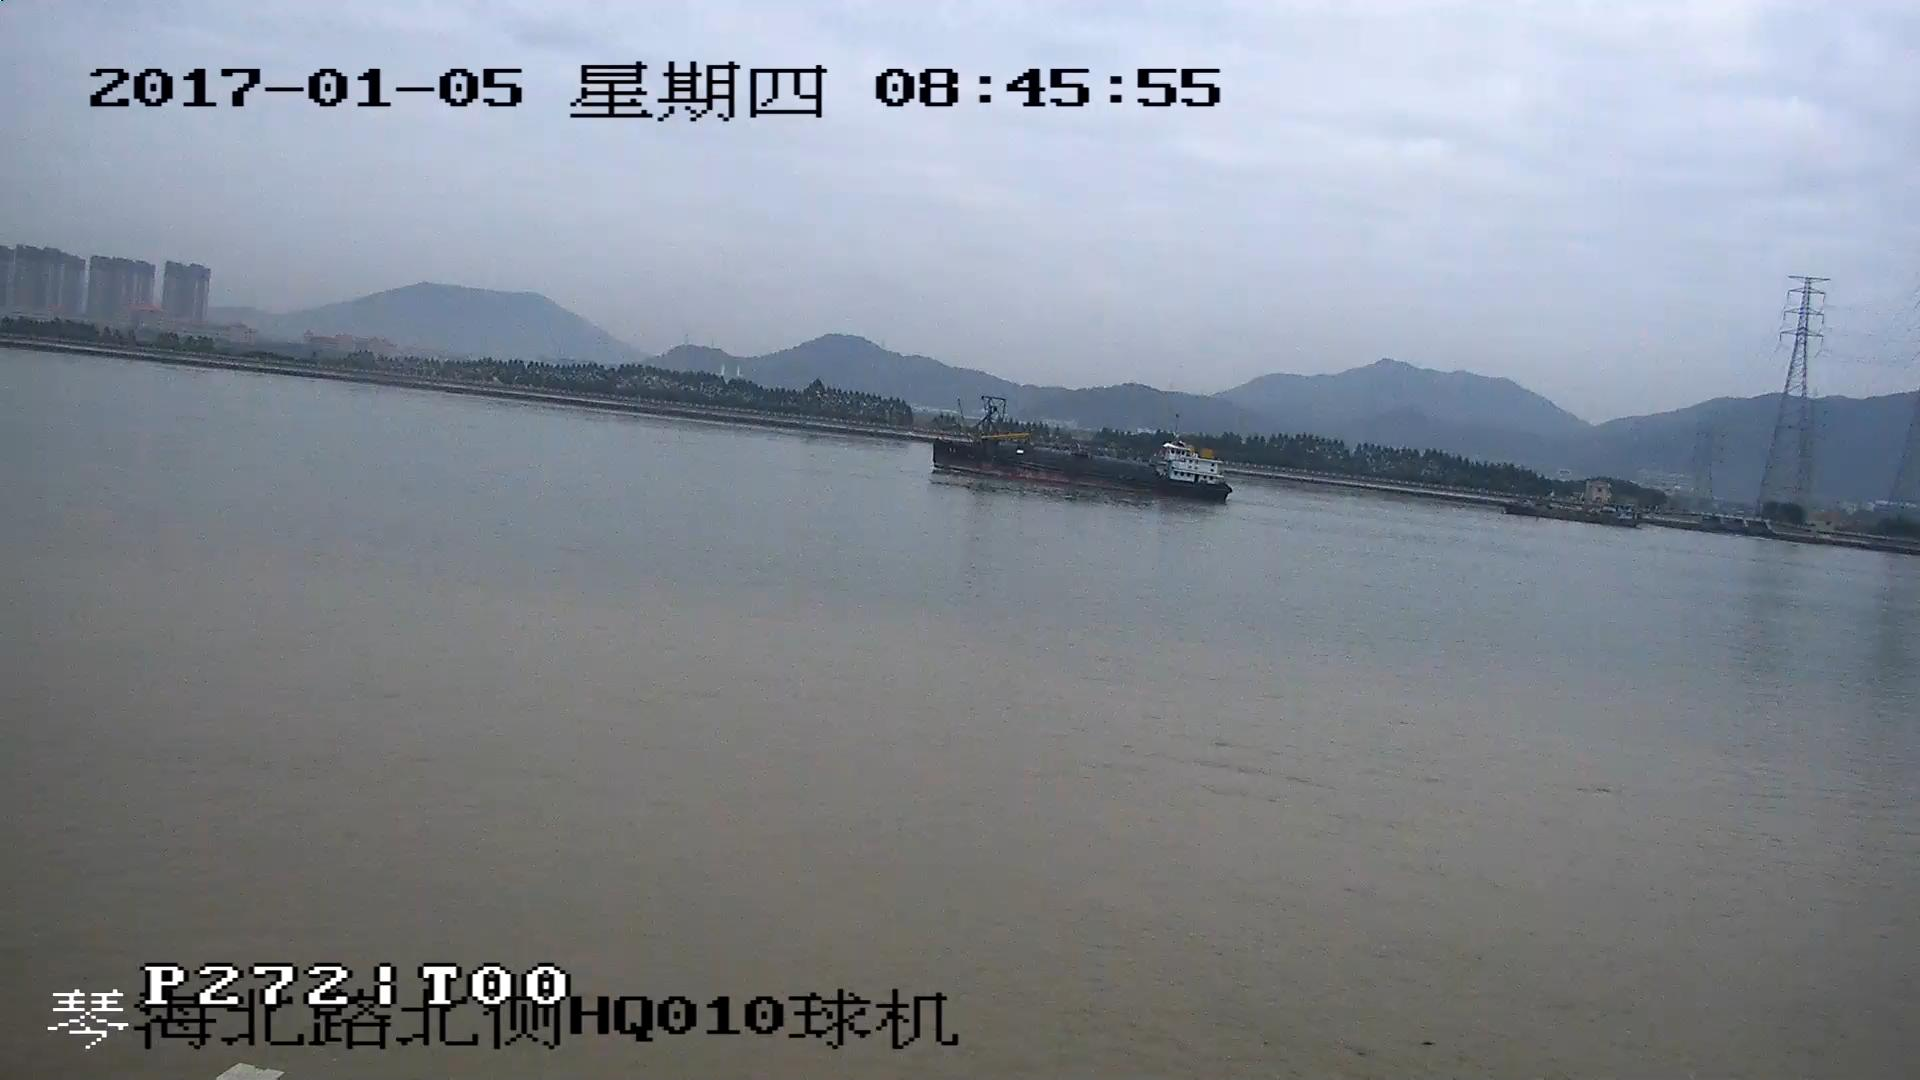bulk cargo carrier: (933, 397, 1221, 509)
